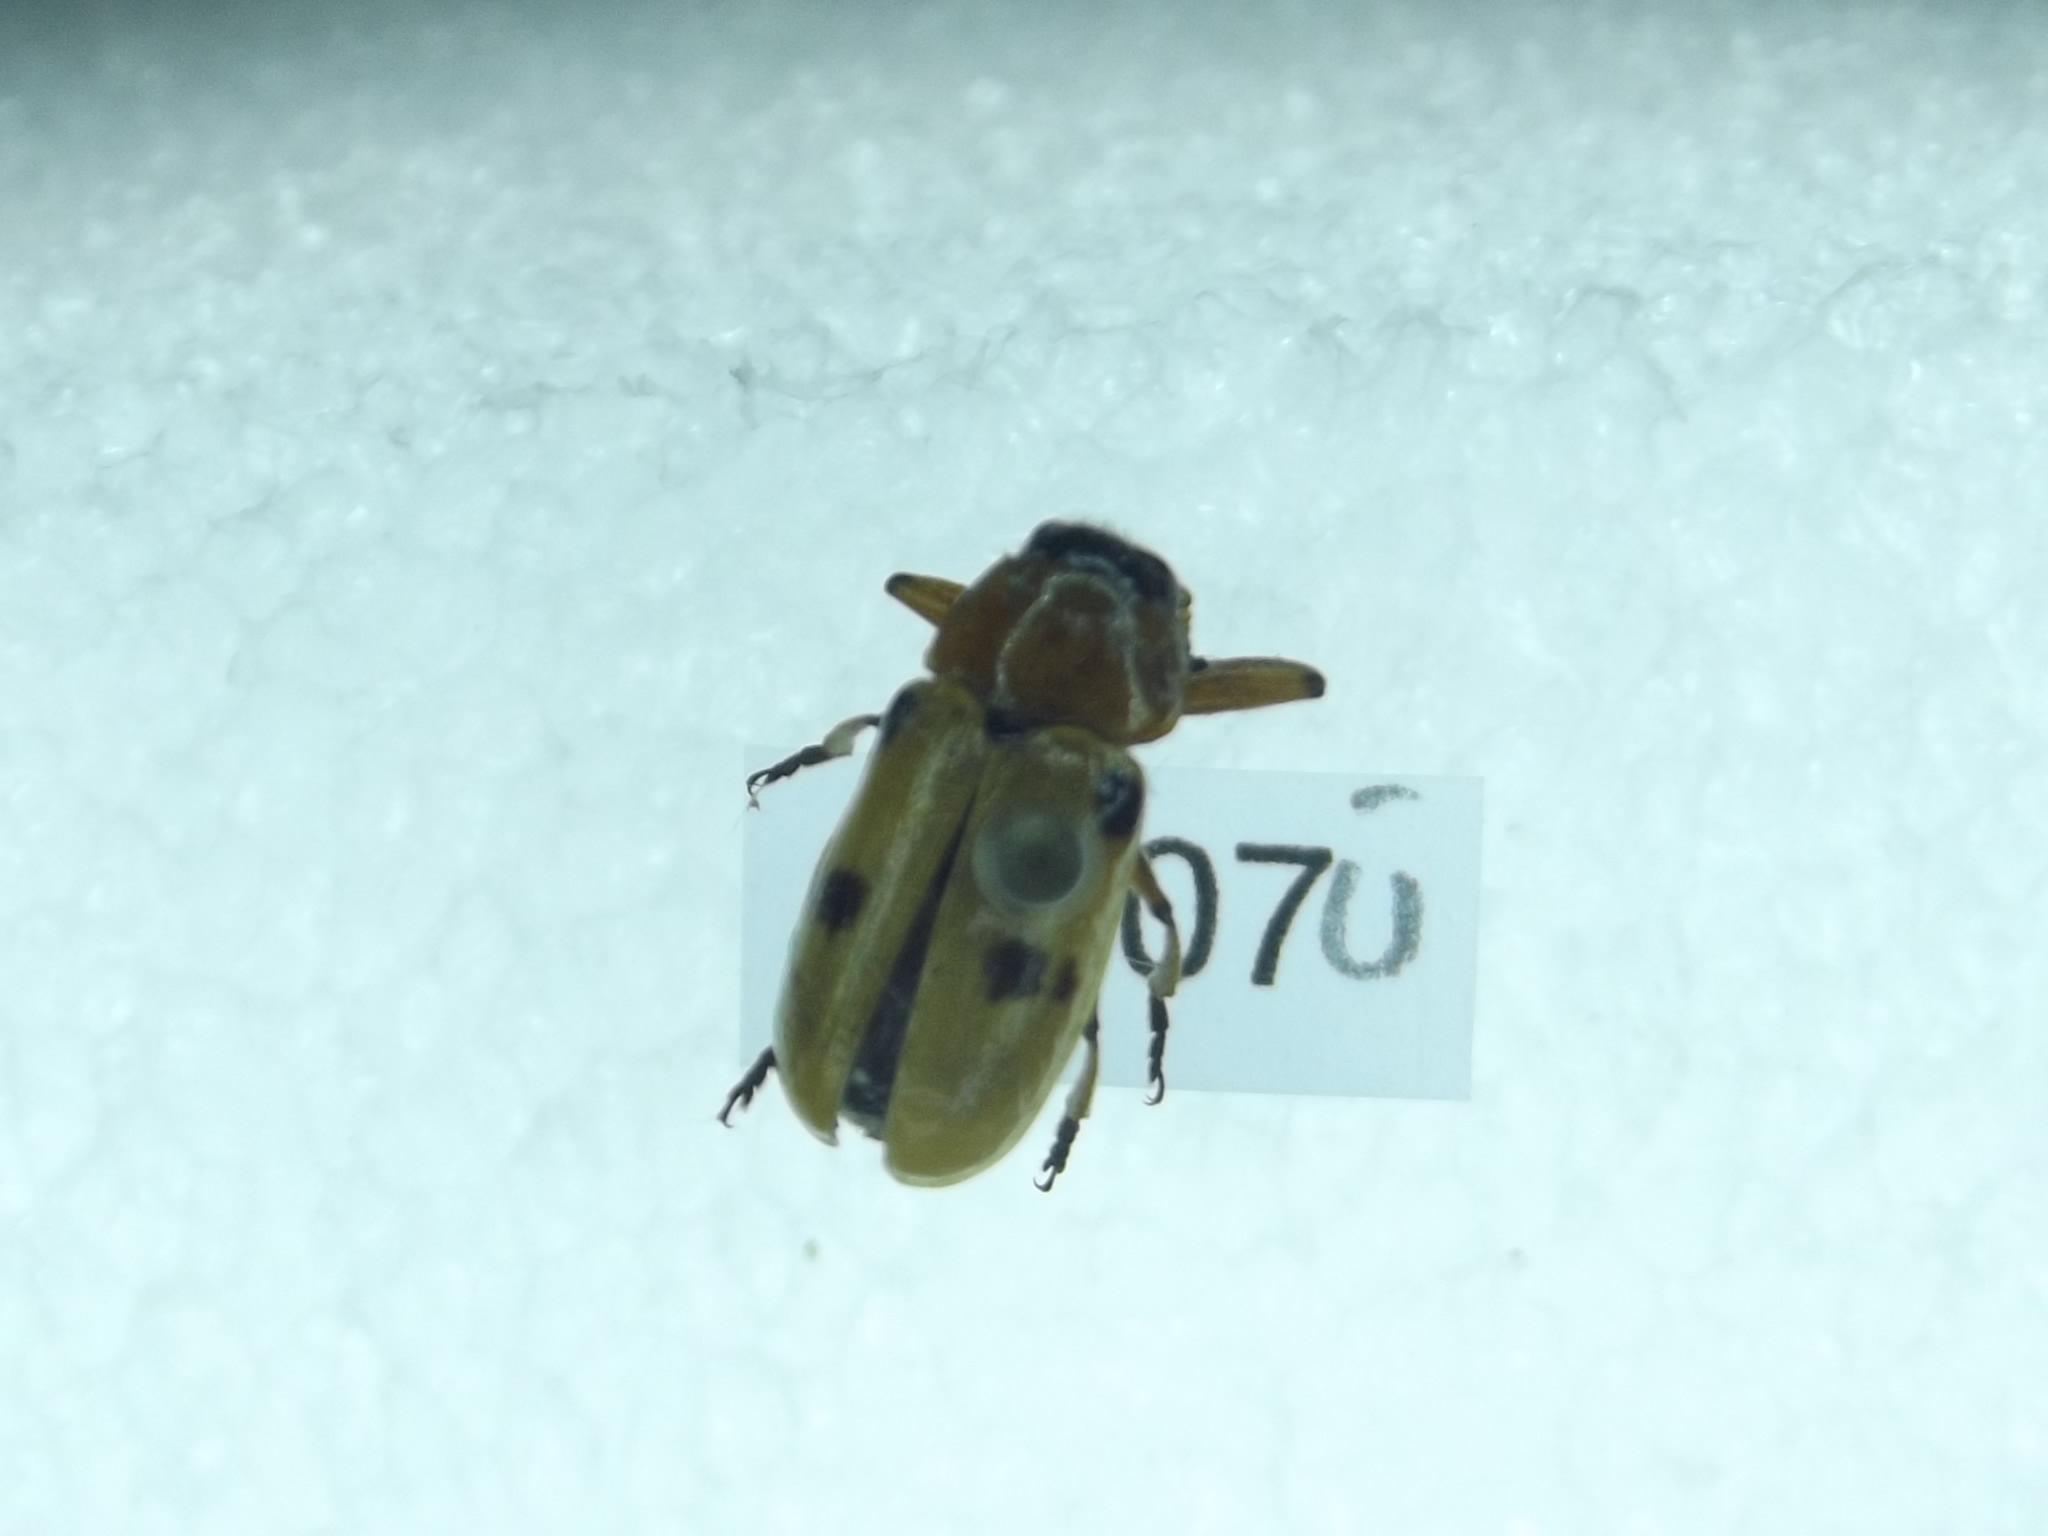Tituboea_macropus: (710, 507, 1337, 1200)
